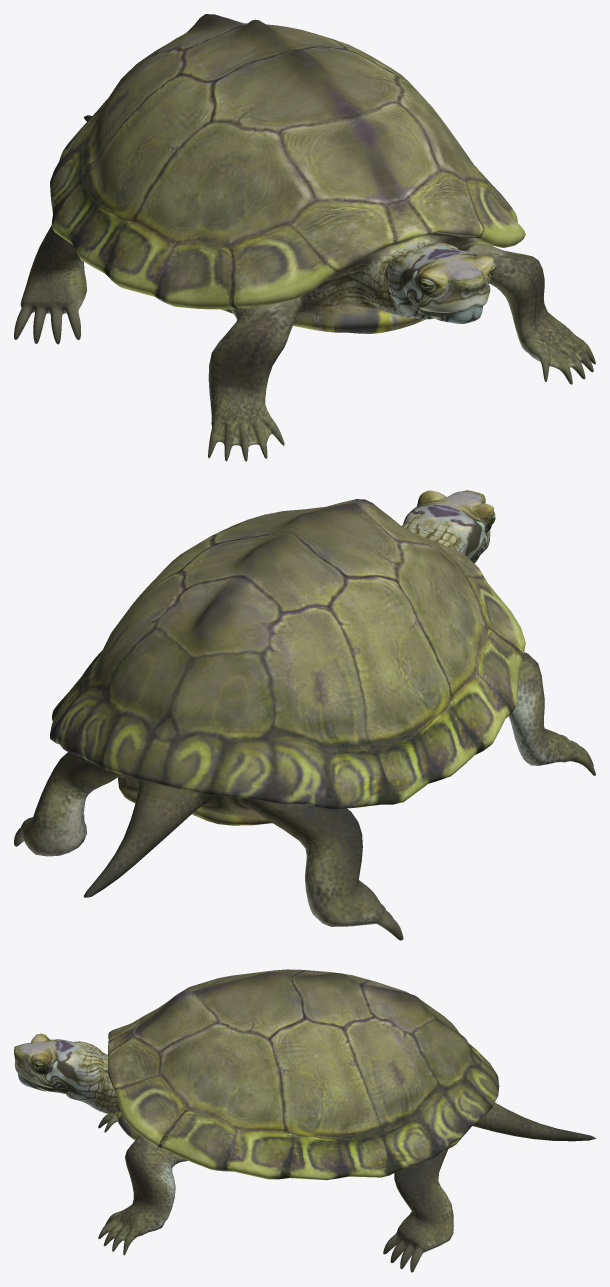
Rendered from TortugaResbaladora.glb.
The picture shows the model from 3 angles, top to bottom: view 1: azimuth 30°, elevation 25°; view 2: azimuth 150°, elevation 25°; view 3: azimuth 270°, elevation 25°; orthographic projection. The views are drawn at different scales.
Visible parts, largest first — view 1: TortugaResbaladora; view 2: TortugaResbaladora; view 3: TortugaResbaladora.
Boxes of the visible parts, bbox=[...] form: TortugaResbaladora: bbox=[14, 14, 595, 461]; TortugaResbaladora: bbox=[14, 490, 595, 940]; TortugaResbaladora: bbox=[14, 969, 595, 1272].
Bounding box in the file's own units: 1.43 × 1.1 × 2.49.
Materials: 1 (1 with a texture image).
